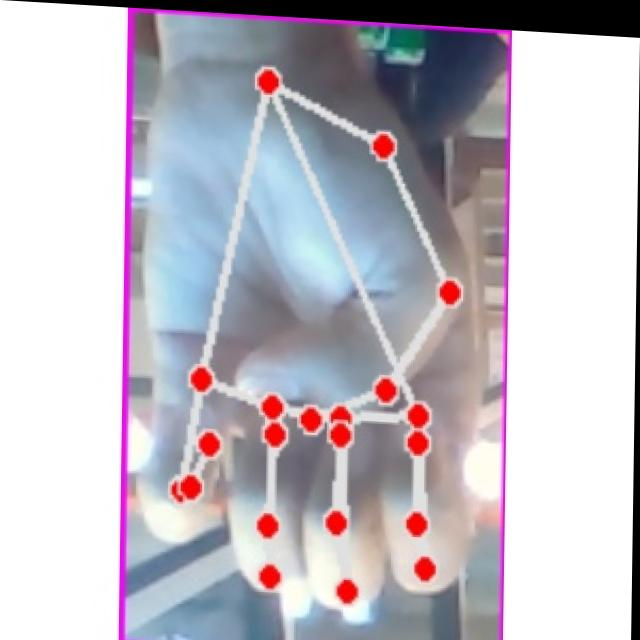E: (132, 48, 502, 612)
